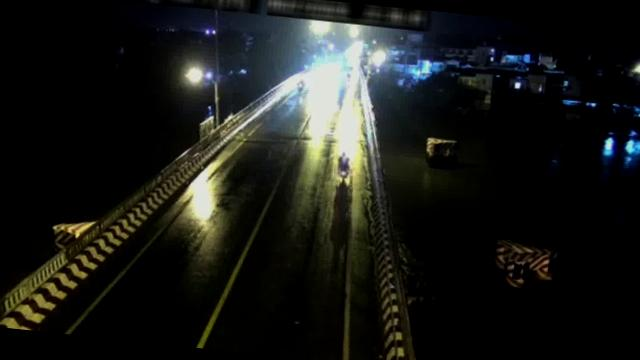Bike: (333, 150, 356, 181)
